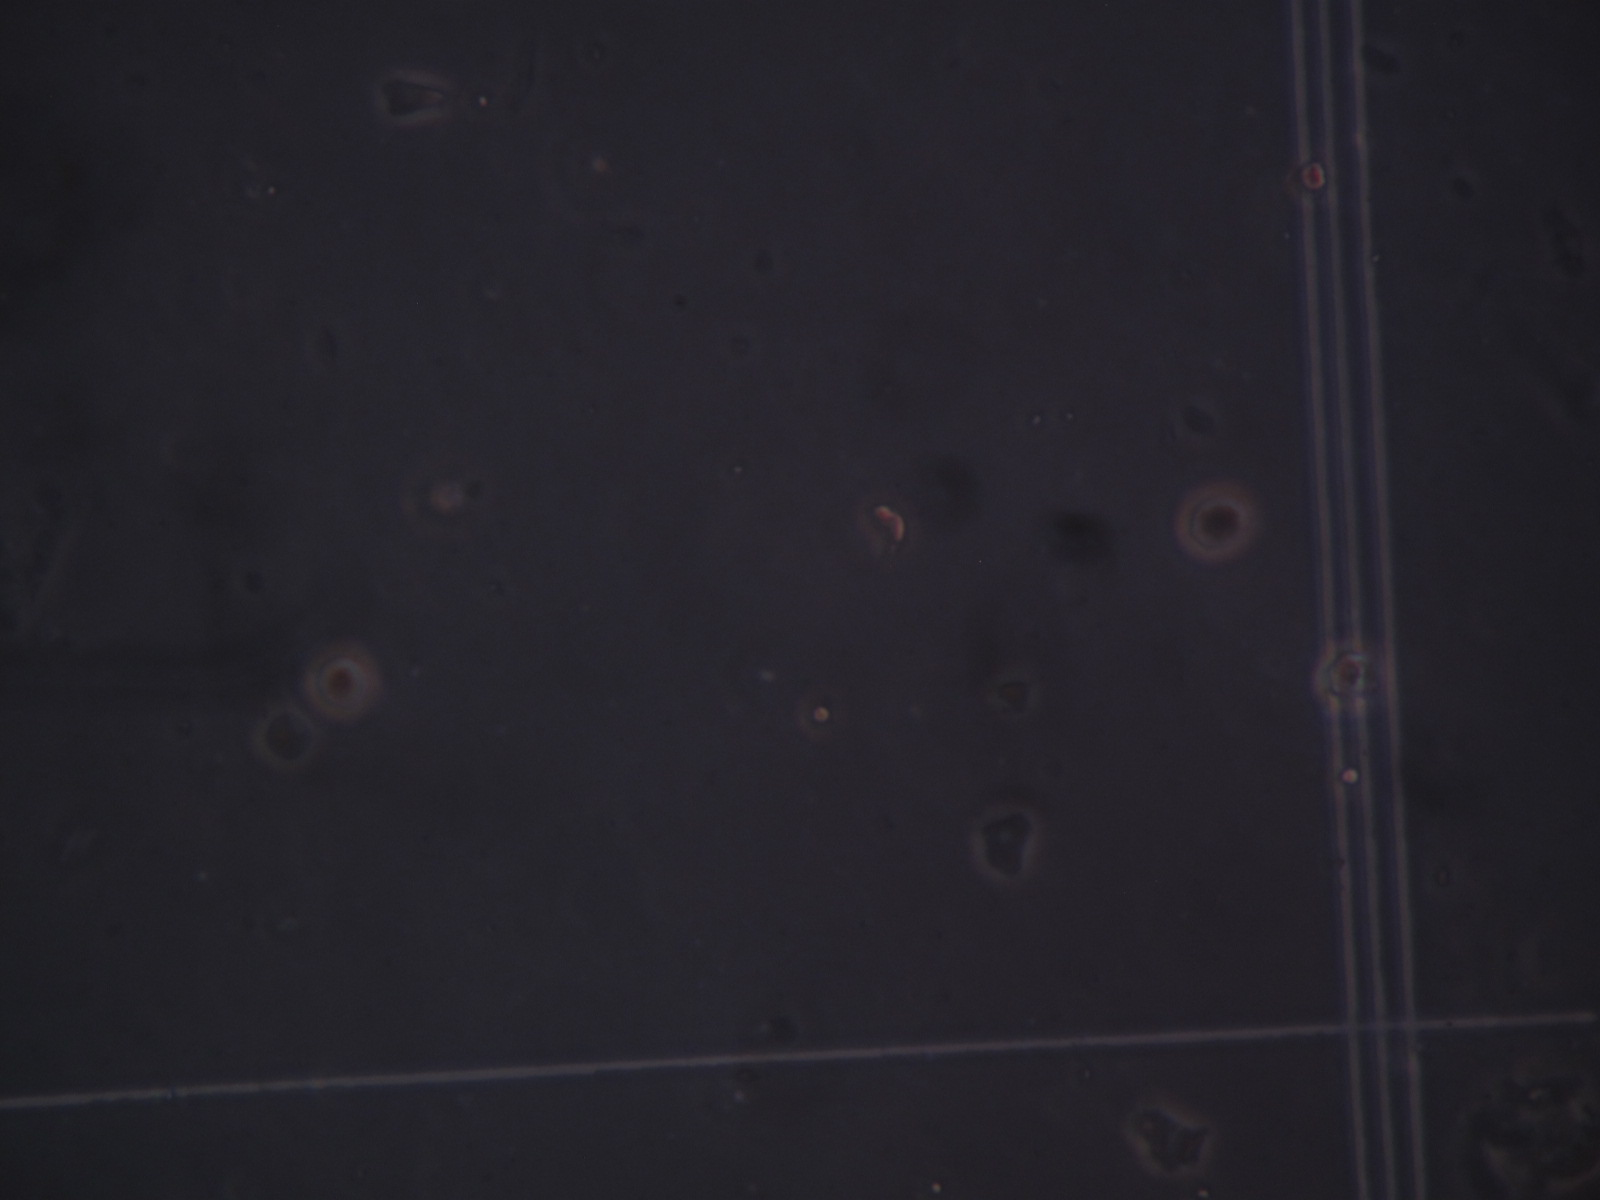hemo: (302, 638, 382, 721), (1173, 483, 1251, 561), (969, 805, 1039, 885), (249, 705, 325, 770), (1315, 639, 1380, 715)
